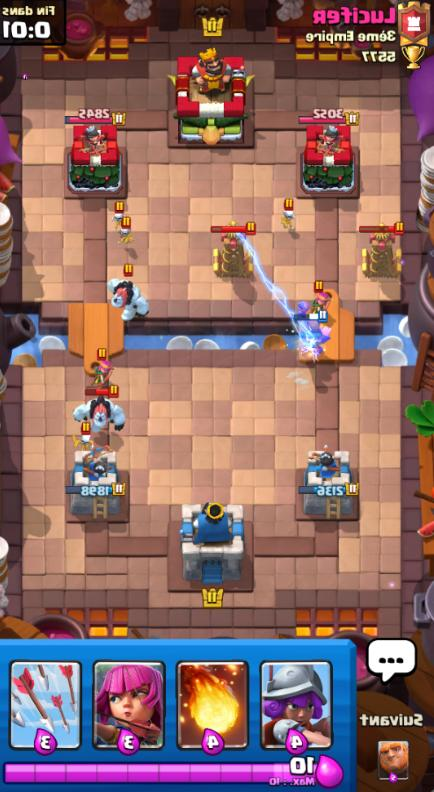archere: (91, 360, 114, 387), (310, 292, 332, 312)
chevalier: (296, 320, 330, 362)
squelette: (72, 435, 95, 449), (281, 210, 296, 231), (118, 227, 134, 242), (111, 212, 122, 230)
